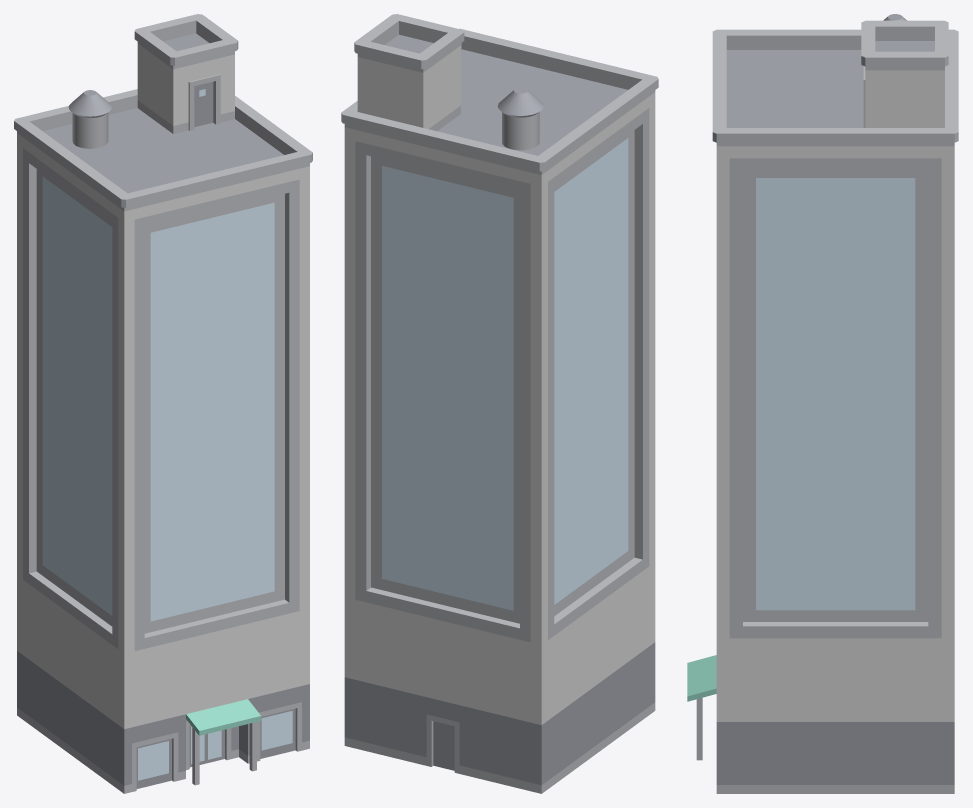
File: SkyscraperC-transformed.glb
3 views of the same model, side by side, from view 1: azimuth 30°, elevation 25°; view 2: azimuth 150°, elevation 25°; view 3: azimuth 270°, elevation 25° (orthographic). The views are drawn at different scales.
Visible parts, largest first — view 1: skyscraperC; view 2: skyscraperC; view 3: skyscraperC.
Boxes of the visible parts, left/top/right/bottom form: skyscraperC: left=14, top=14, right=312, bottom=793; skyscraperC: left=341, top=14, right=658, bottom=793; skyscraperC: left=687, top=14, right=958, bottom=793.
Size of the model in its own units: 1.24 by 4.08 by 1.37.
